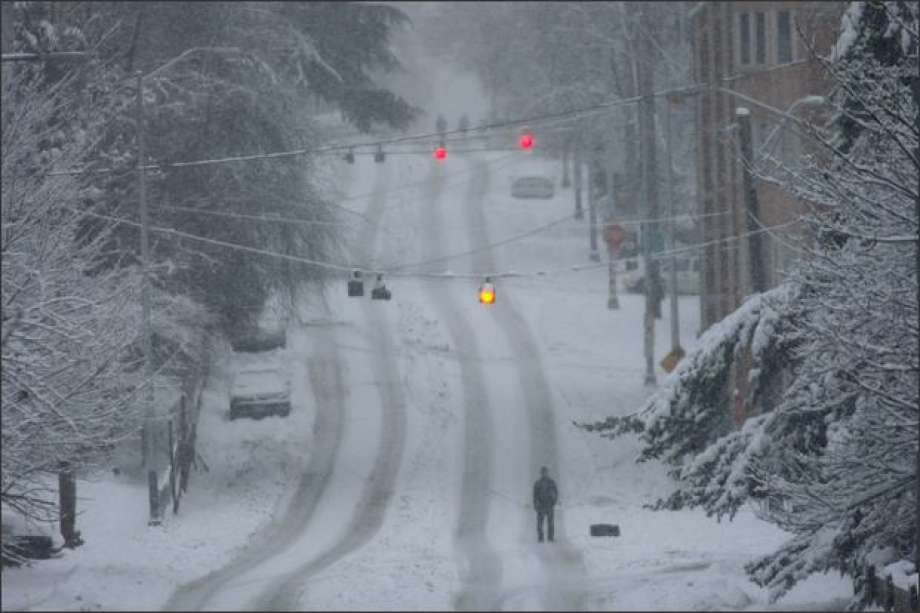person: (532, 465, 563, 546)
